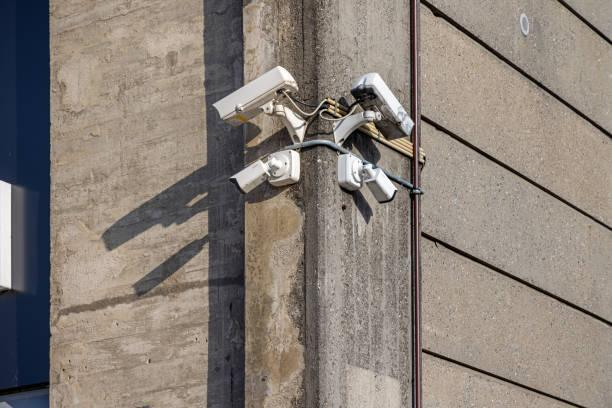camera: (211, 55, 301, 132), (344, 70, 421, 142), (227, 146, 273, 205), (359, 158, 402, 214)
